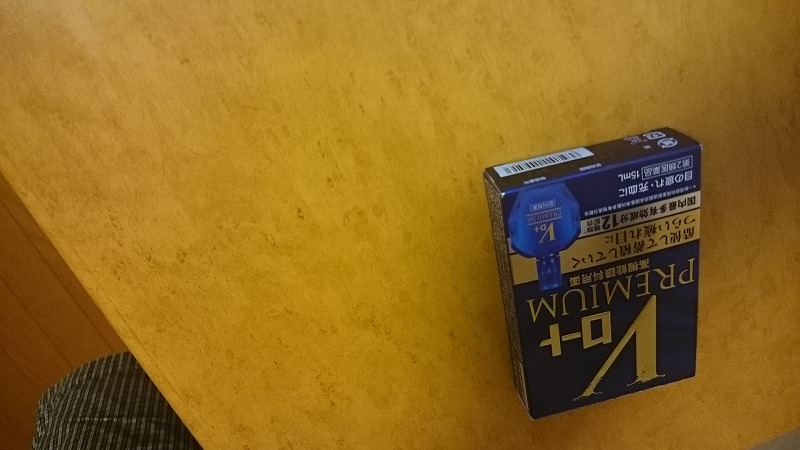D: (478, 109, 708, 428)
